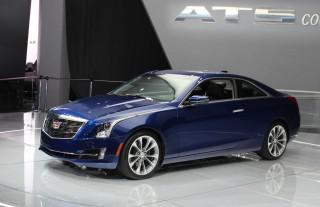cadillac: (49, 118, 66, 131)
